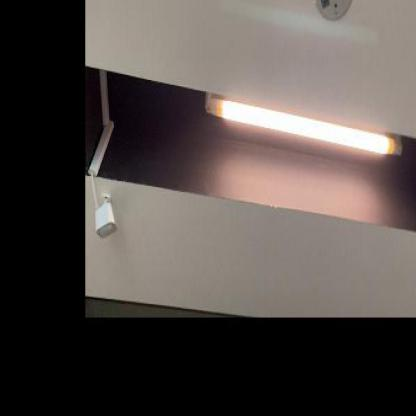light_on: (198, 81, 400, 174)
